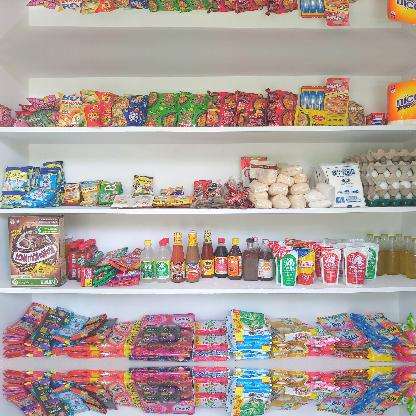Koko-Krunch: (6, 214, 68, 286)
